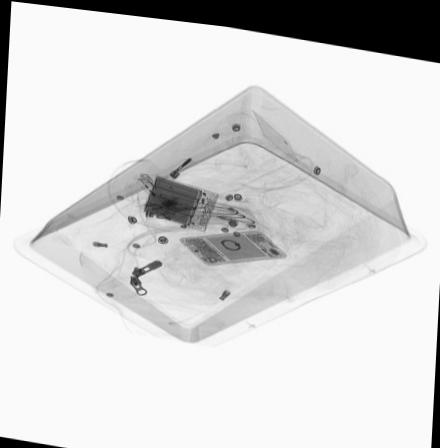Lighter: (132, 169, 168, 198)
